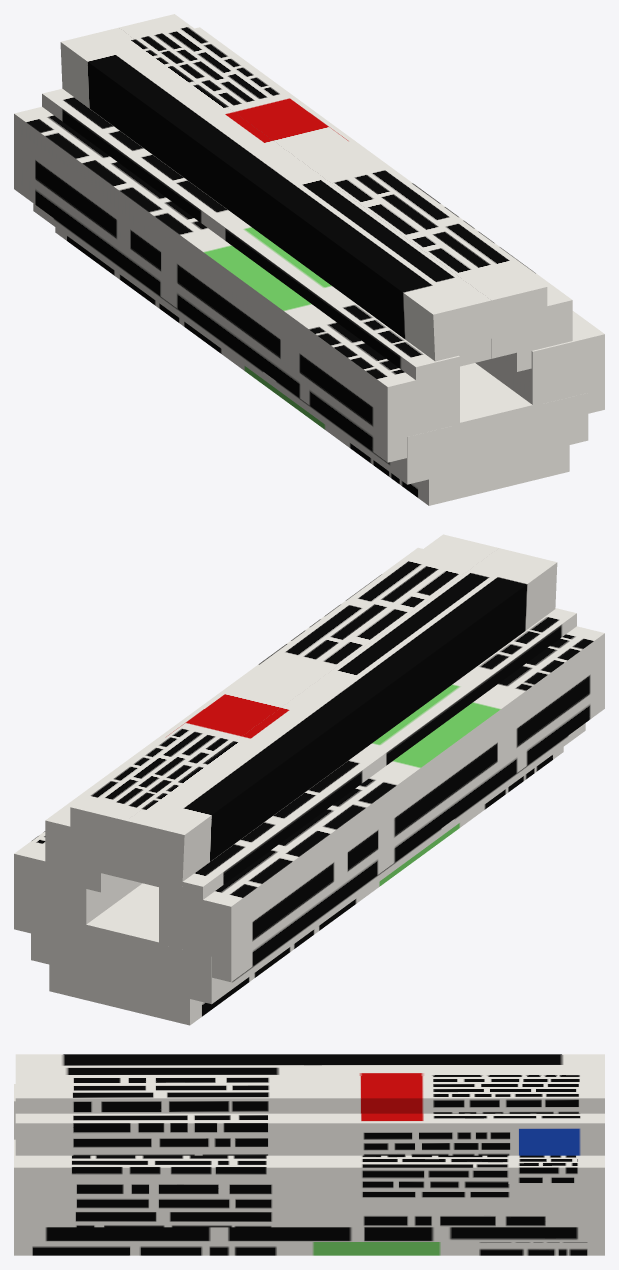
File: newspaper model.fbx
The picture shows the model from 3 angles, top to bottom: view 1: azimuth 30°, elevation 25°; view 2: azimuth 150°, elevation 25°; view 3: azimuth 270°, elevation 25°; orthographic projection. The views are drawn at different scales.
Visible parts, largest first — view 1: pCube18; view 2: pCube18; view 3: pCube18.
Part boxes in pixels (bbox=[...]): pCube18: bbox=[14, 14, 604, 505]; pCube18: bbox=[14, 534, 604, 1025]; pCube18: bbox=[14, 1054, 604, 1255].
Size of the model in its own units: 0.386 by 0.3213 by 1.15.
Materials: 1 (1 with a texture image).
